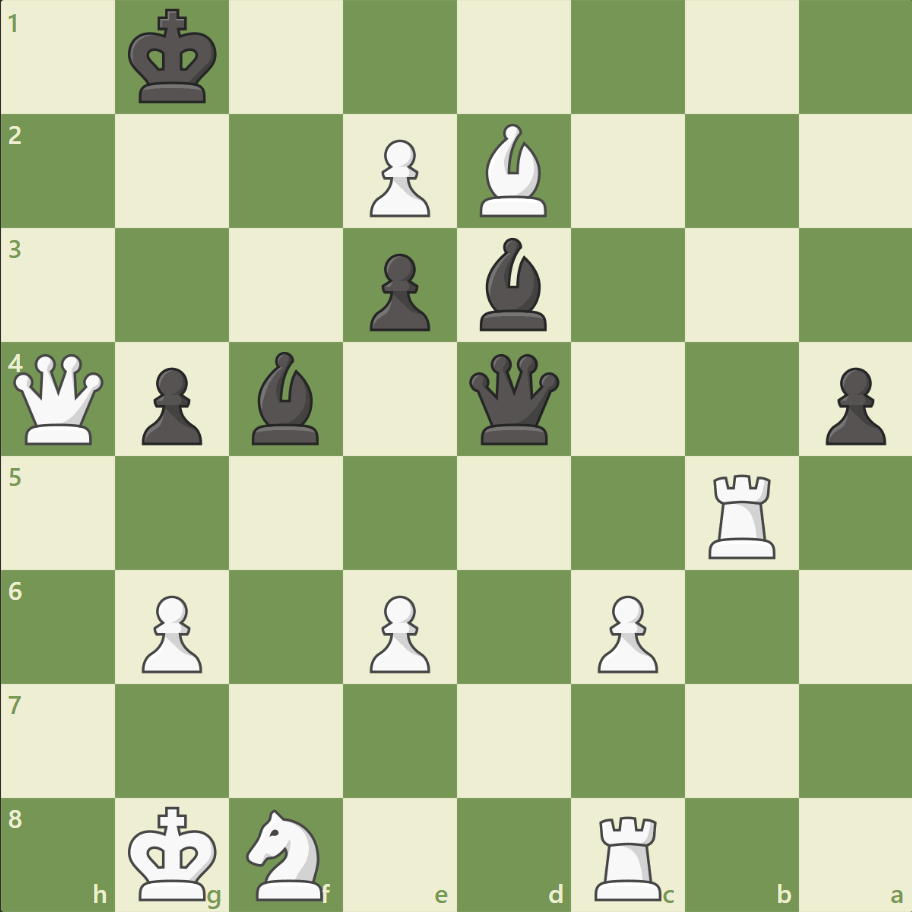B: (471, 120, 555, 222)
K: (124, 798, 224, 906)
N: (238, 802, 335, 904)
P: (133, 586, 208, 677), (588, 586, 662, 677), (361, 586, 435, 677), (361, 132, 435, 223)
Q: (10, 349, 109, 449)
R: (587, 806, 670, 904), (700, 466, 783, 563)
b: (471, 233, 555, 336), (244, 347, 328, 449)
k: (124, 4, 224, 112)
p: (133, 359, 208, 450), (815, 359, 889, 450), (361, 246, 435, 337)
q: (464, 349, 563, 449)
